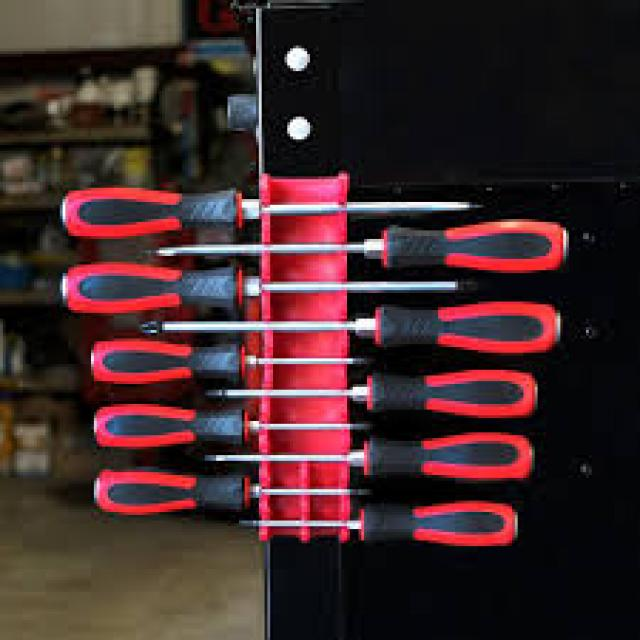Screwdriver: (152, 210, 594, 282), (45, 168, 492, 238), (138, 285, 592, 353), (42, 260, 493, 318), (193, 365, 553, 422), (226, 495, 544, 552), (203, 430, 547, 482), (84, 462, 376, 512), (78, 334, 399, 376), (85, 400, 382, 443)
